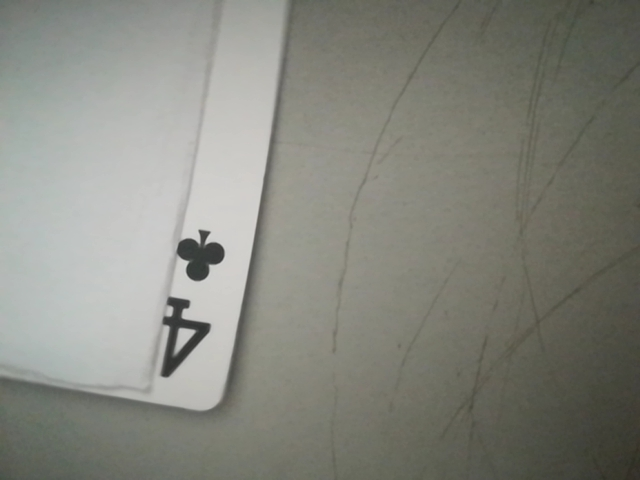mh 4: (139, 216, 239, 398)
